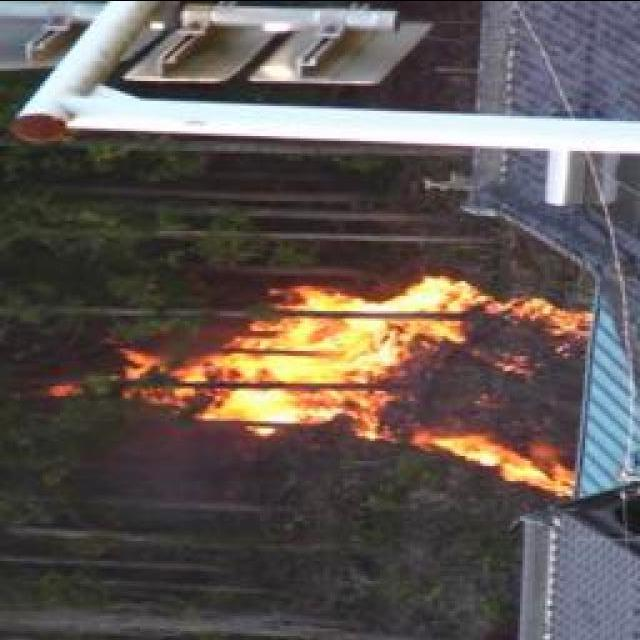Fire: (135, 276, 588, 484)
